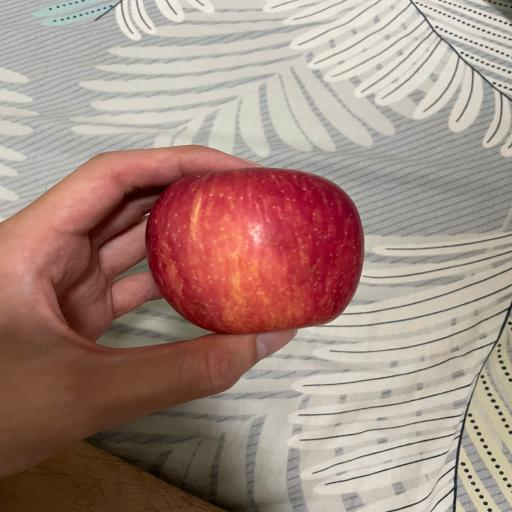apple: (146, 168, 364, 334)
